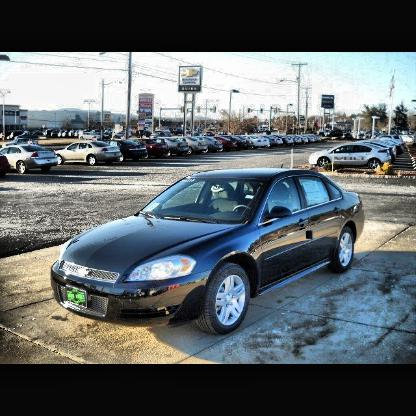Chevrolet Impala Sedan 2007: (50, 169, 367, 339)
